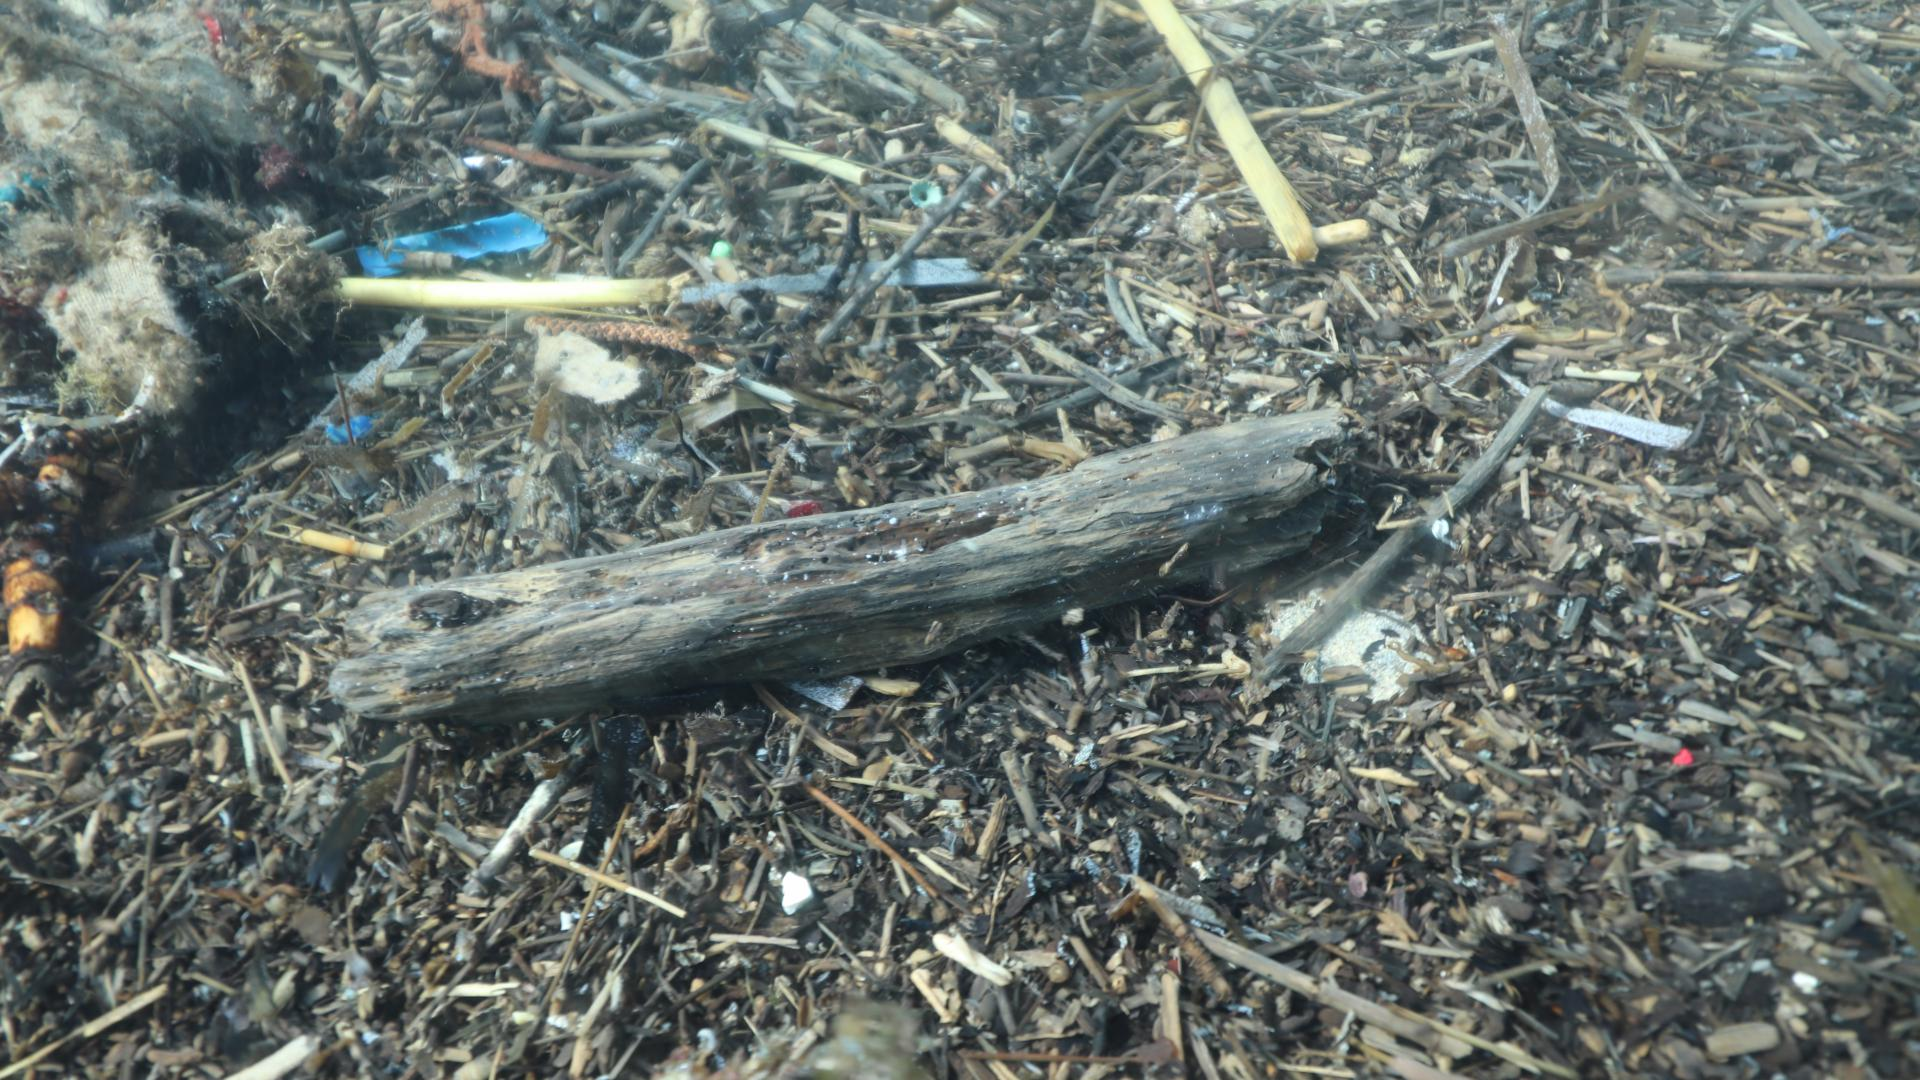wood: (327, 407, 1371, 723)
